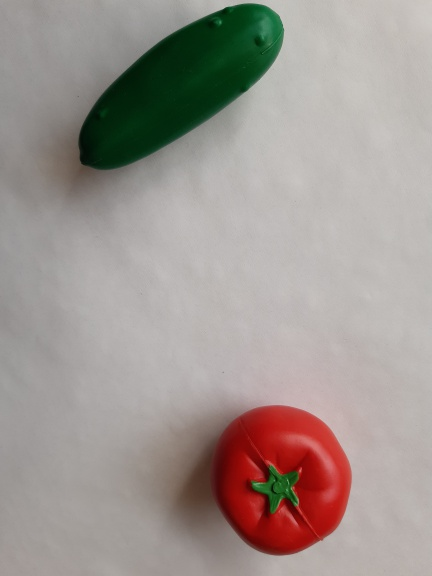cucumber: (65, 1, 298, 182)
tomato: (195, 395, 361, 562)
